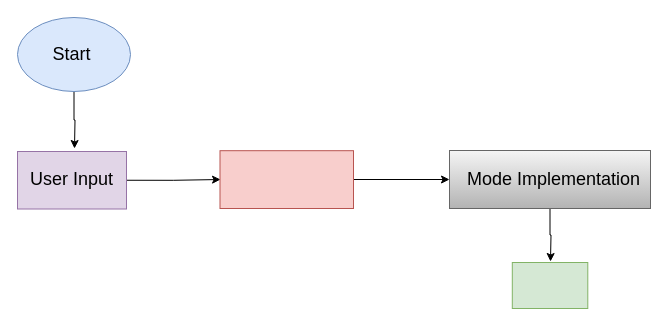
Image size: 668x326. Some labels were removed from this diagram. Each missing label, with the centre of its shape:
"End" goes at pixel 549 285.
"Mode Selection" goes at pixel 286 179.
